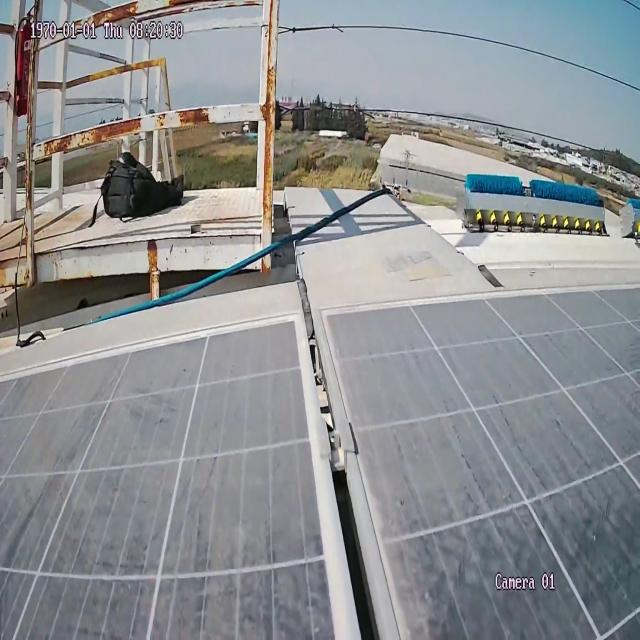interior panel: (244, 315, 466, 640)
outher panel: (0, 41, 640, 378)
